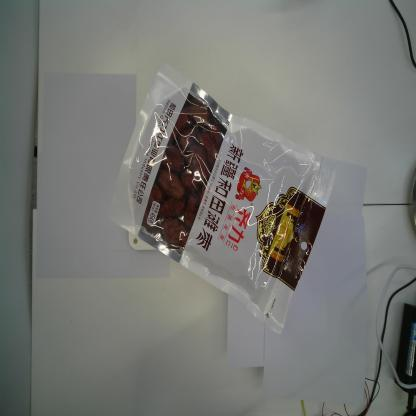Dried Food: (108, 58, 341, 338)
